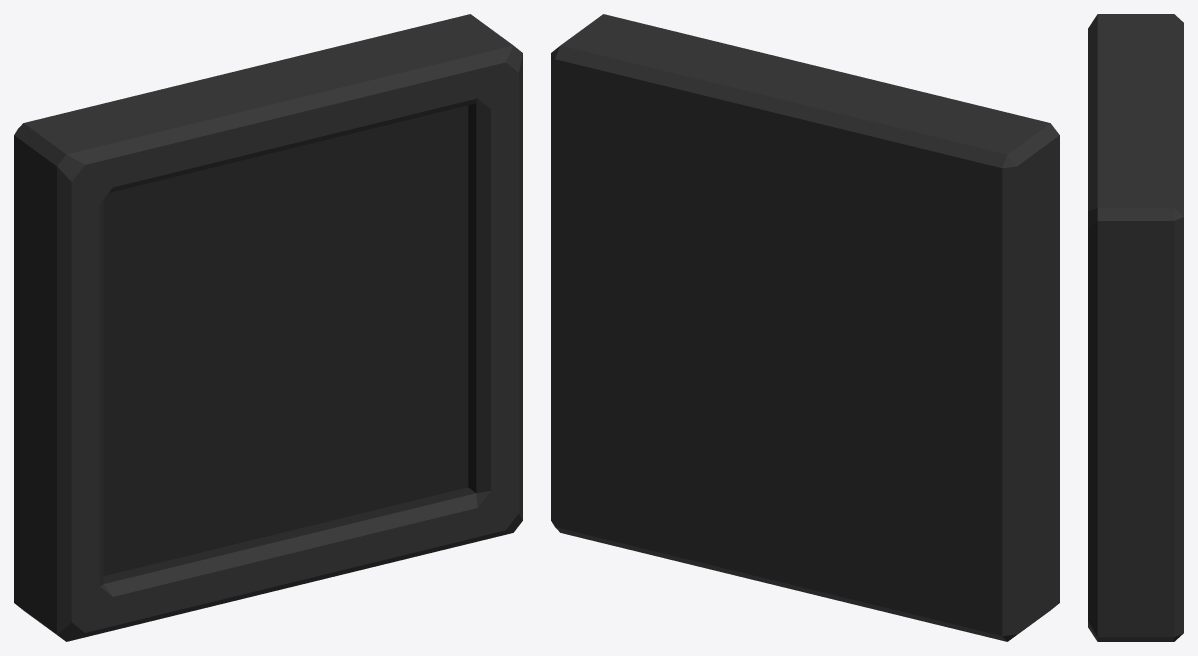
Rendered from HJD_SFB_Monitor_01.fbx.
3 renders of one model, left to right at view 1: azimuth 30°, elevation 25°; view 2: azimuth 150°, elevation 25°; view 3: azimuth 270°, elevation 25°, orthographic. The views are drawn at different scales.
Visible parts, largest first — view 1: Screen, Base; view 2: Base; view 3: Base.
Boxes of the visible parts, left/top/right/bottom form: Screen: left=103, top=103, right=476, bottom=583; Base: left=14, top=14, right=522, bottom=641; Base: left=551, top=14, right=1059, bottom=641; Base: left=1088, top=14, right=1183, bottom=641.
Size of the model in its own units: 100 by 100 by 20.
